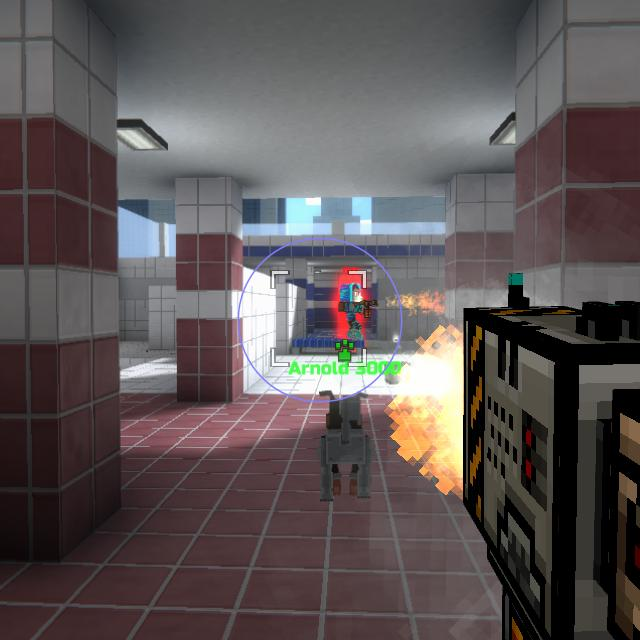Enemy: (338, 283, 364, 341)
